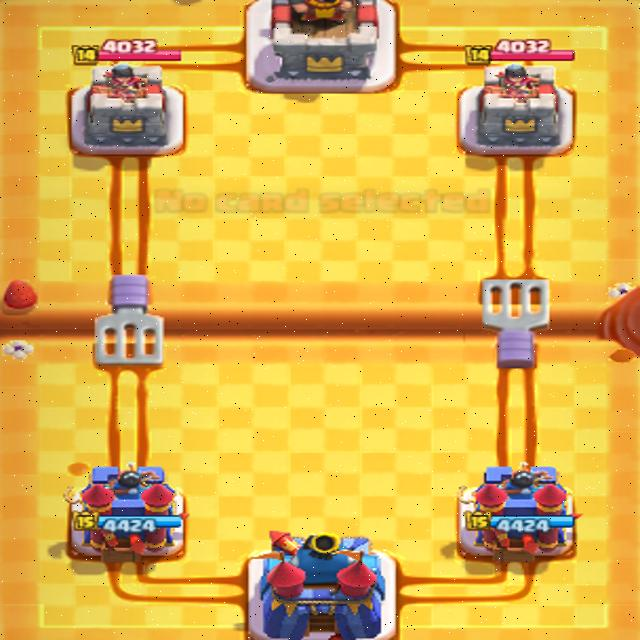EKingTower: (271, 0, 382, 81)
EnemyPrincessTower: (80, 49, 170, 144), (474, 64, 563, 147)
OwnKingTower: (255, 528, 387, 631)
OwnPrincessTower: (74, 464, 180, 551), (476, 461, 566, 550)
